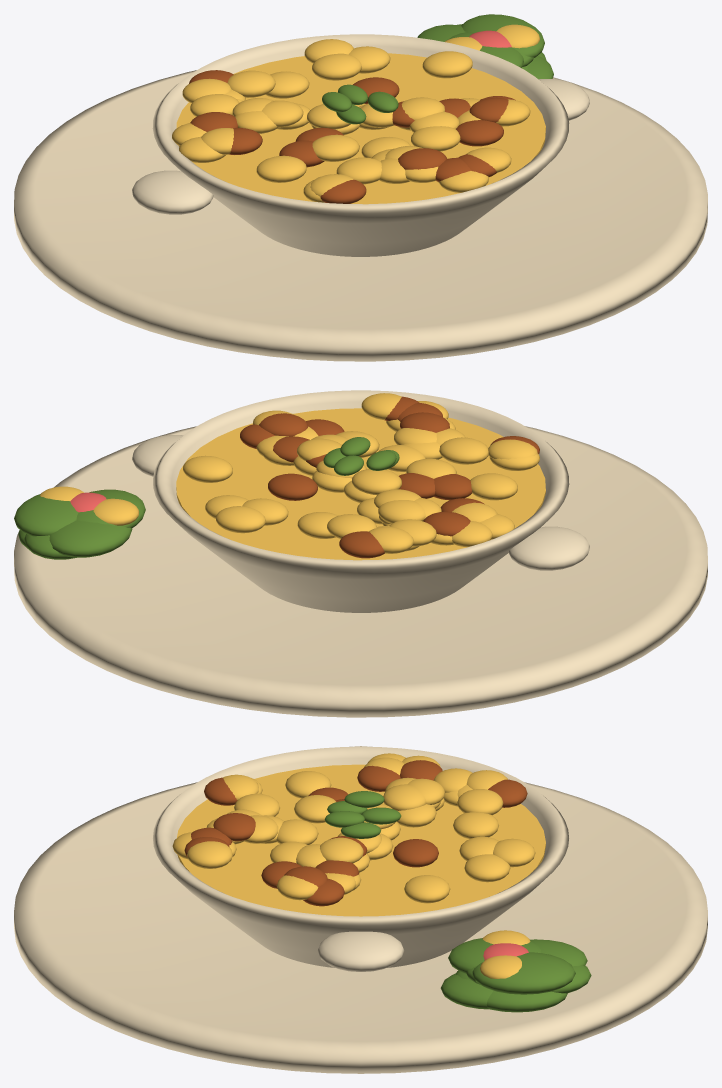
The model's file is 62-cheese-gratin.glb.
The picture shows the model from 3 angles, top to bottom: view 1: azimuth 30°, elevation 25°; view 2: azimuth 150°, elevation 25°; view 3: azimuth 270°, elevation 25°; orthographic projection.
Visible parts, largest first — view 1: 노릇한 치즈 그라탱; view 2: 노릇한 치즈 그라탱; view 3: 노릇한 치즈 그라탱.
Boxes of the visible parts, <box> form: 노릇한 치즈 그라탱: <box>14,14,707,361</box>; 노릇한 치즈 그라탱: <box>14,390,707,717</box>; 노릇한 치즈 그라탱: <box>14,746,707,1073</box>.
Size of the model in its own units: 2.4 by 0.541 by 2.4.
